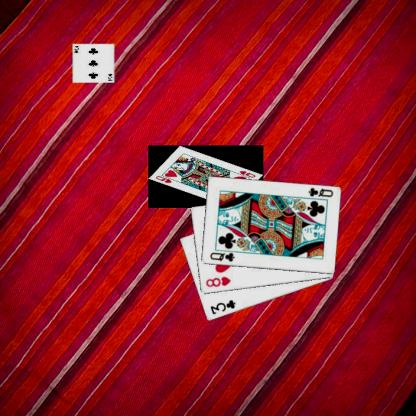3C: (208, 297, 236, 316)
8H: (203, 274, 232, 288)
QC: (305, 185, 334, 199), (207, 250, 236, 263)
